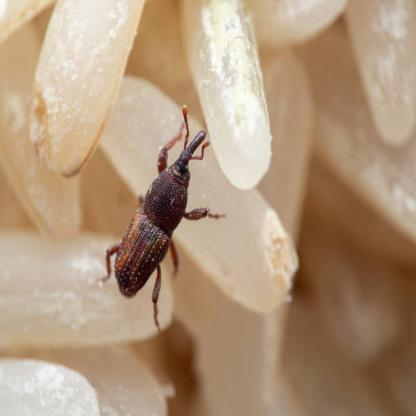rice-bug: (118, 122, 209, 300)
